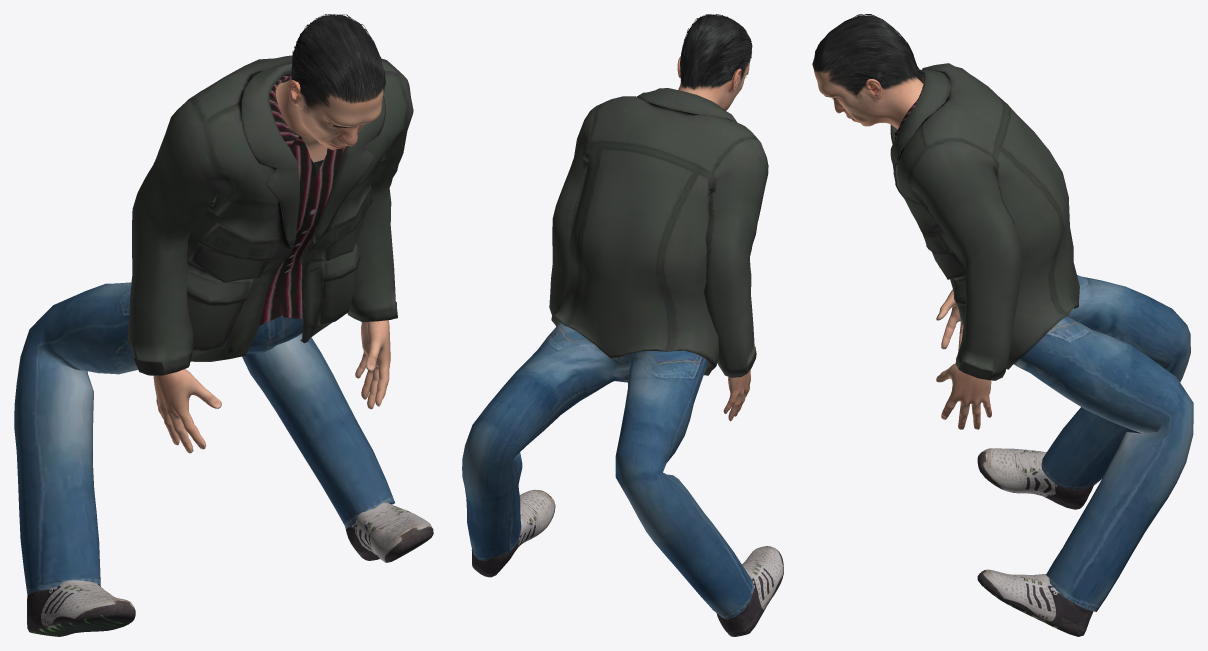
File: uomo-03.glb
3 views of the same model, side by side, from view 1: azimuth 30°, elevation 25°; view 2: azimuth 150°, elevation 25°; view 3: azimuth 270°, elevation 25° (orthographic). The views are drawn at different scales.
Parts seen in each view (by area): view 1: Human.male_casualsuit05, Human, Human.shoes05, Human.short04; view 2: Human.male_casualsuit05, Human.shoes05, Human.short04, Human; view 3: Human.male_casualsuit05, Human.shoes05, Human, Human.short04.
Boxes of the visible parts, left/top/right/bottom form: Human.male_casualsuit05: left=14, top=55, right=413, bottom=594; Human: left=153, top=78, right=390, bottom=453; Human.shoes05: left=27, top=502, right=433, bottom=636; Human.short04: left=291, top=14, right=385, bottom=112; Human.male_casualsuit05: left=462, top=88, right=768, bottom=619; Human.shoes05: left=471, top=489, right=783, bottom=636; Human.short04: left=680, top=14, right=752, bottom=90; Human: left=677, top=57, right=750, bottom=421; Human.male_casualsuit05: left=890, top=63, right=1193, bottom=611; Human.shoes05: left=977, top=448, right=1093, bottom=636; Human: left=814, top=68, right=991, bottom=429; Human.short04: left=812, top=14, right=924, bottom=99.
Bounding box in the file's own units: 0.7609 × 1.34 × 0.8356.
12 materials, 12 textured.
